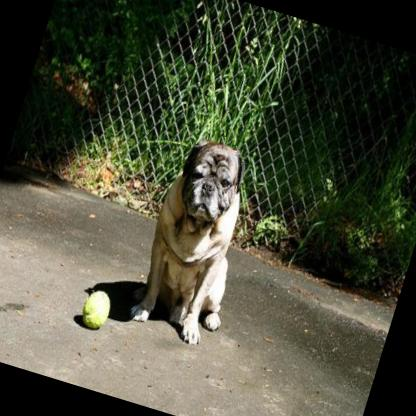pug: (122, 128, 273, 355)
